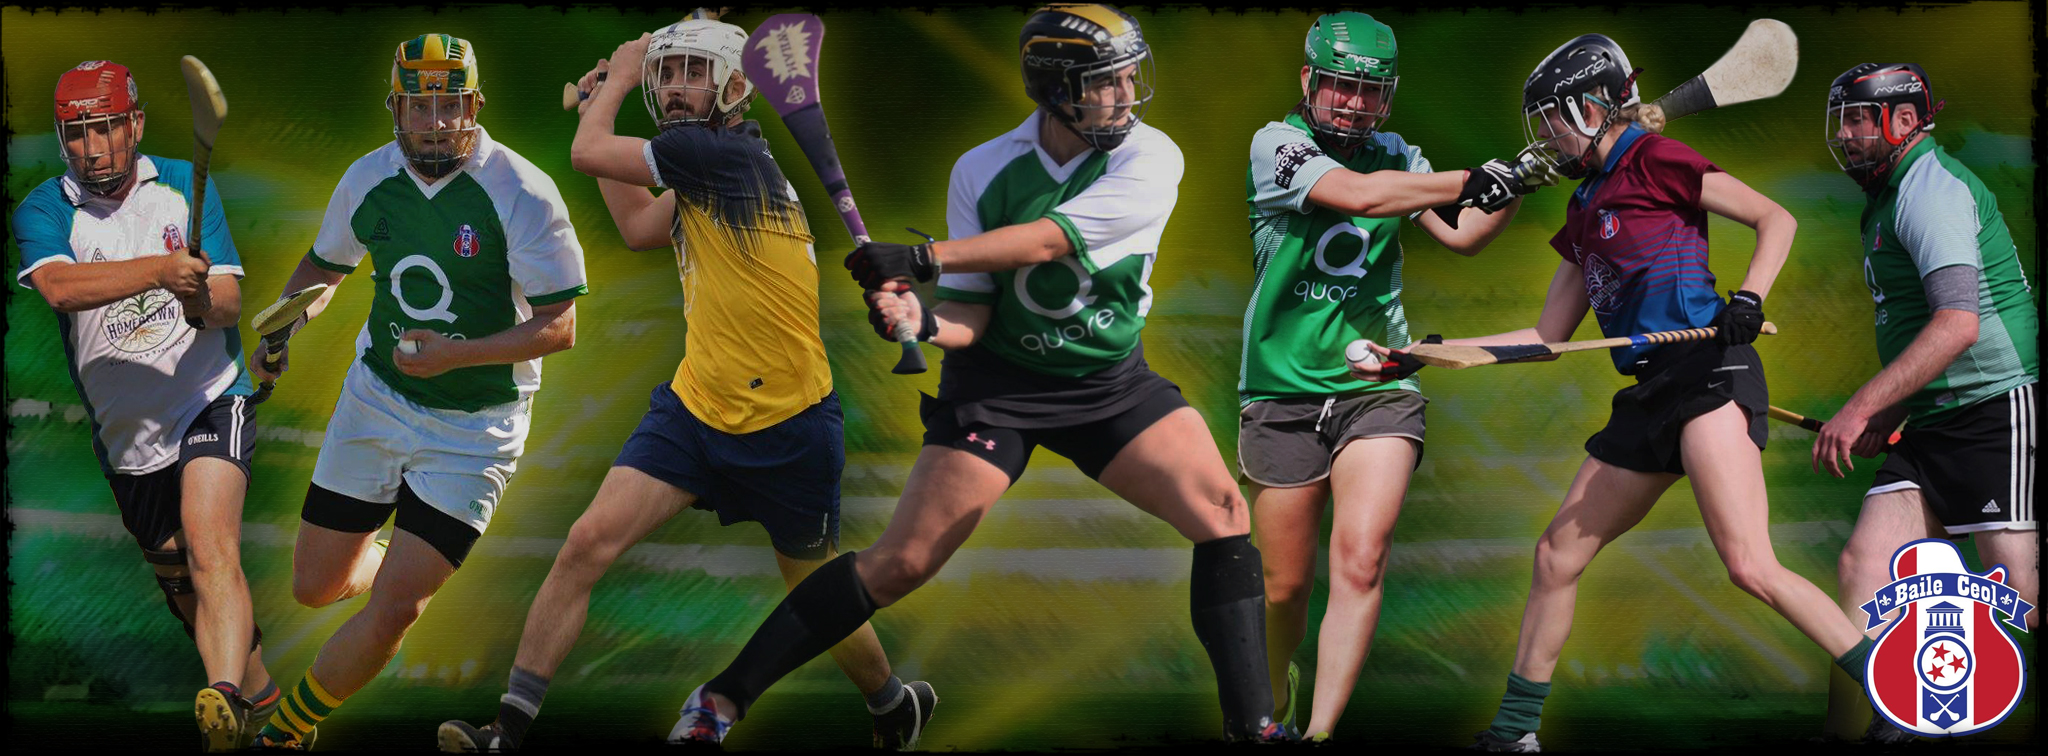hurley: (741, 7, 936, 380), (1398, 319, 1806, 407), (168, 48, 242, 330), (1659, 20, 1799, 131), (259, 279, 329, 390)
